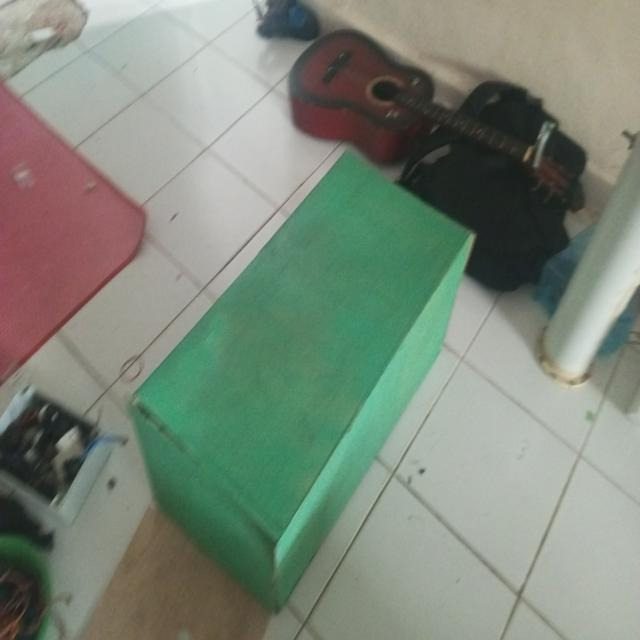green_box: (134, 136, 479, 576)
